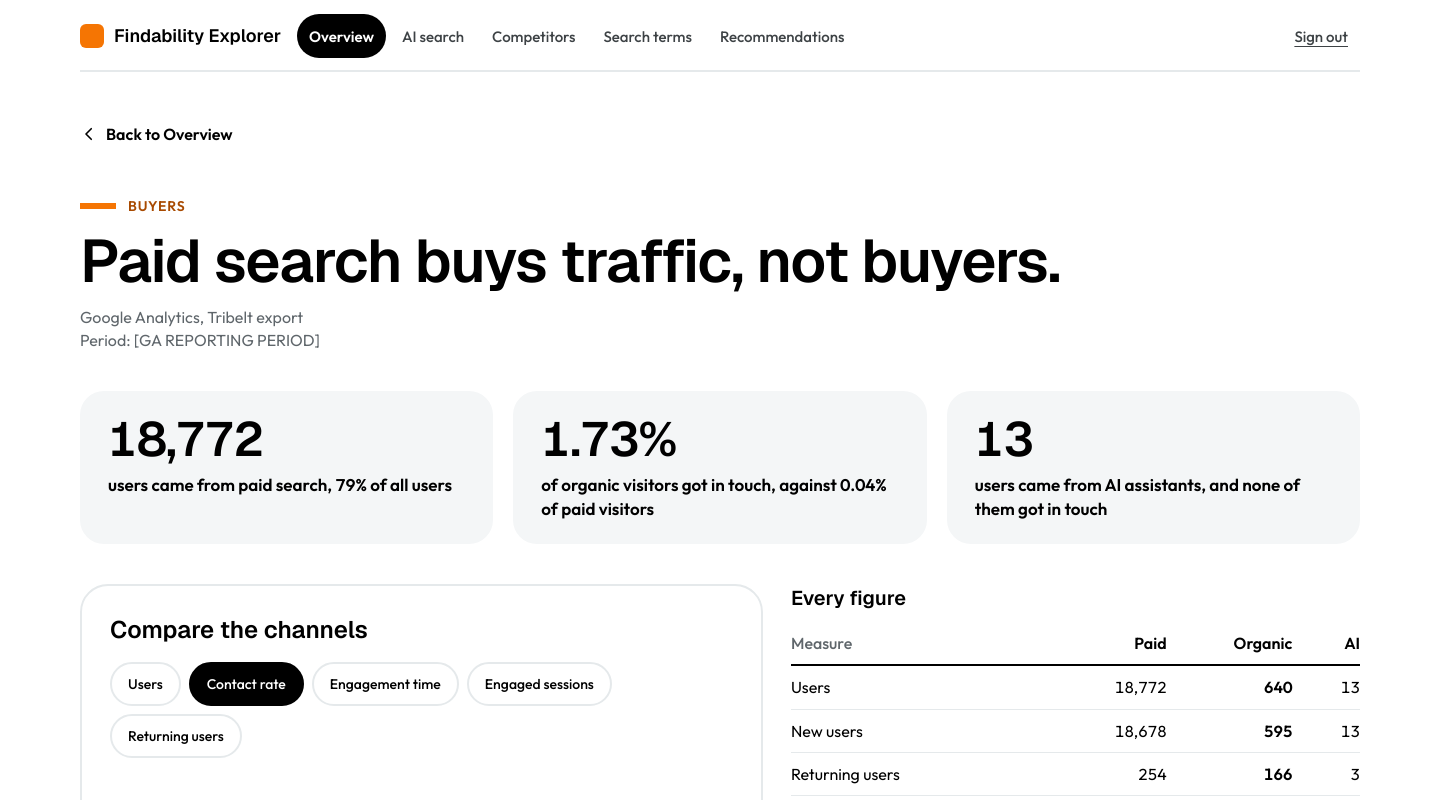
Scenario: the Buyers view › switches the chart to another measure
The image size is (1440, 800).
Click the button "Users": {"x": 145, "y": 684} [110, 662, 181, 706]
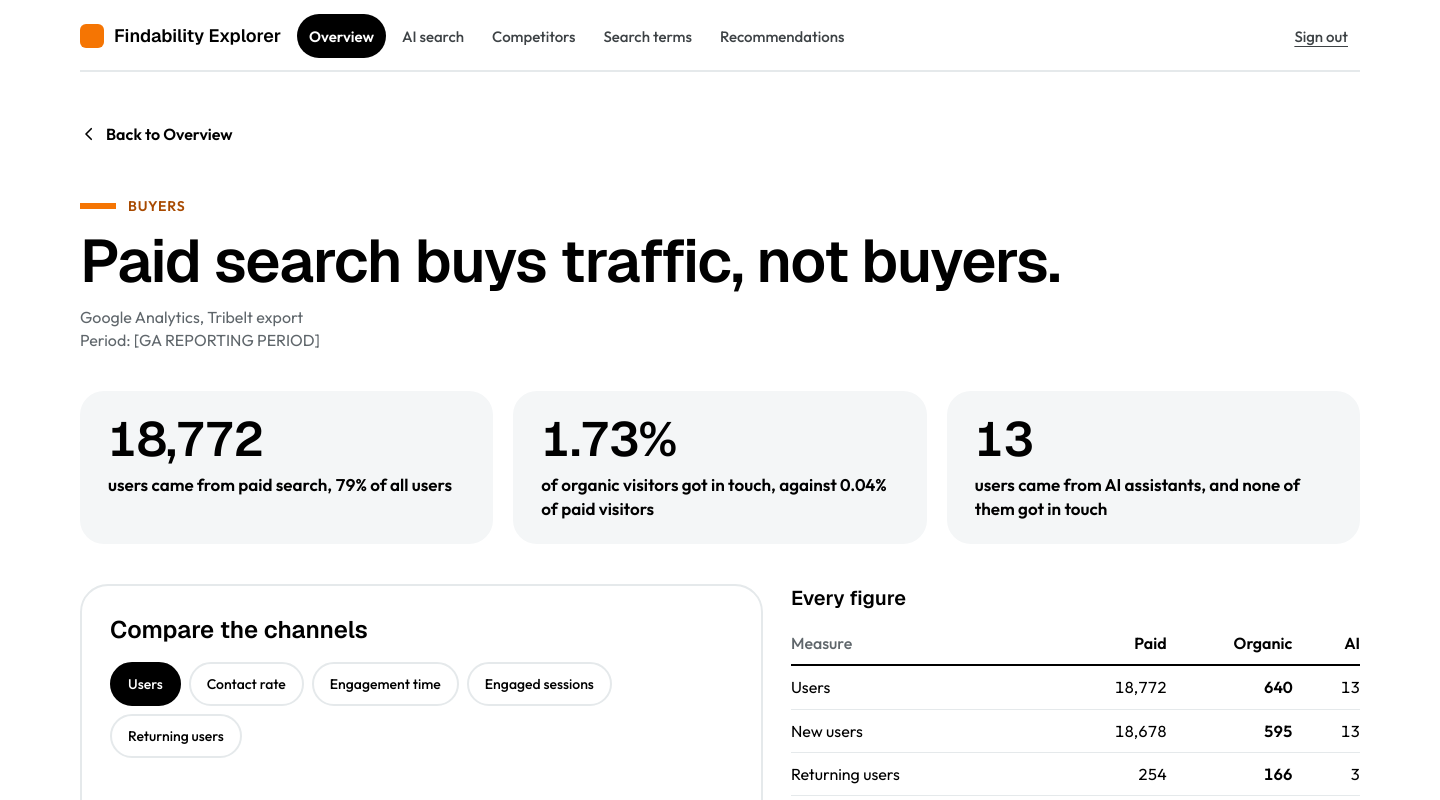
expect the button "Users" is pressed: met, box [110, 662, 181, 706]
expect the button "Contact rate" is not pressed: met, box [189, 662, 304, 706]
Click the button "Engagement time": {"x": 385, "y": 684} [312, 662, 459, 706]
(page scrolled)
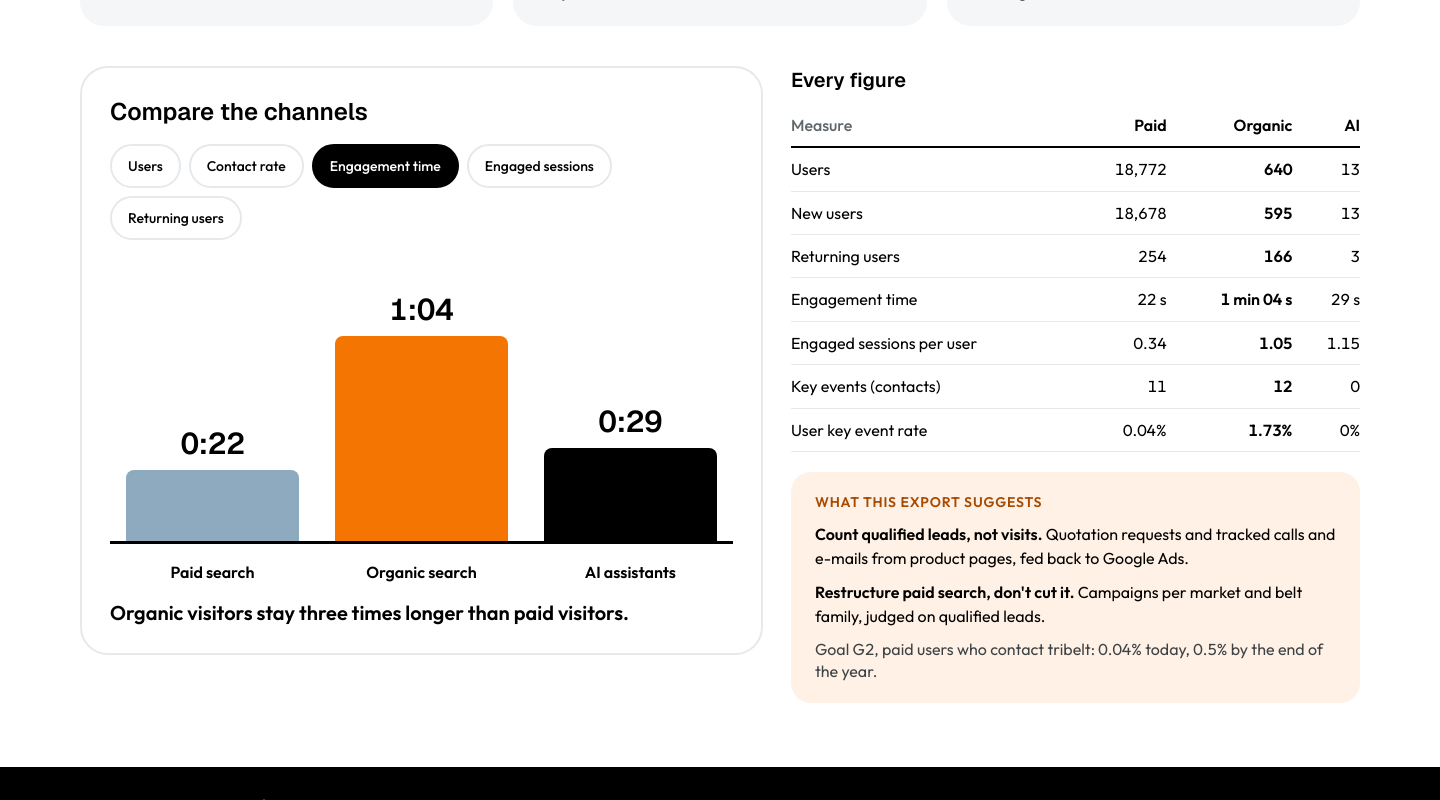
expect the picture "0:22 1:04 0:29" is shown: met, box [110, 256, 733, 544]
